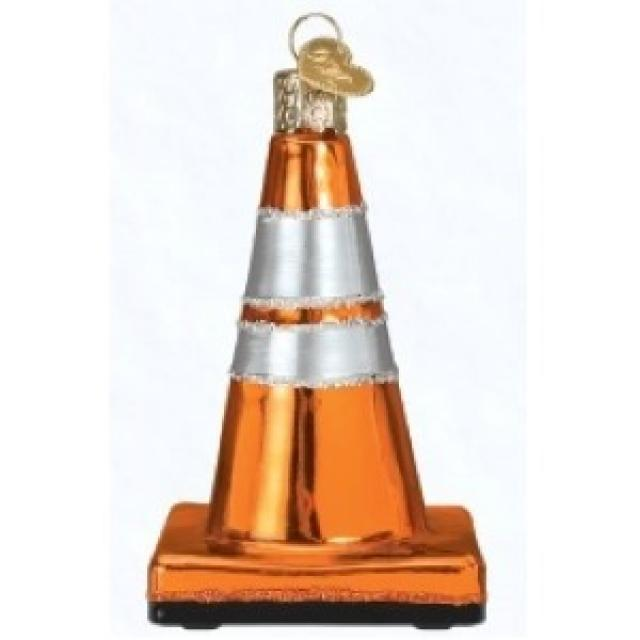Traffic Cone: (145, 12, 488, 632)
